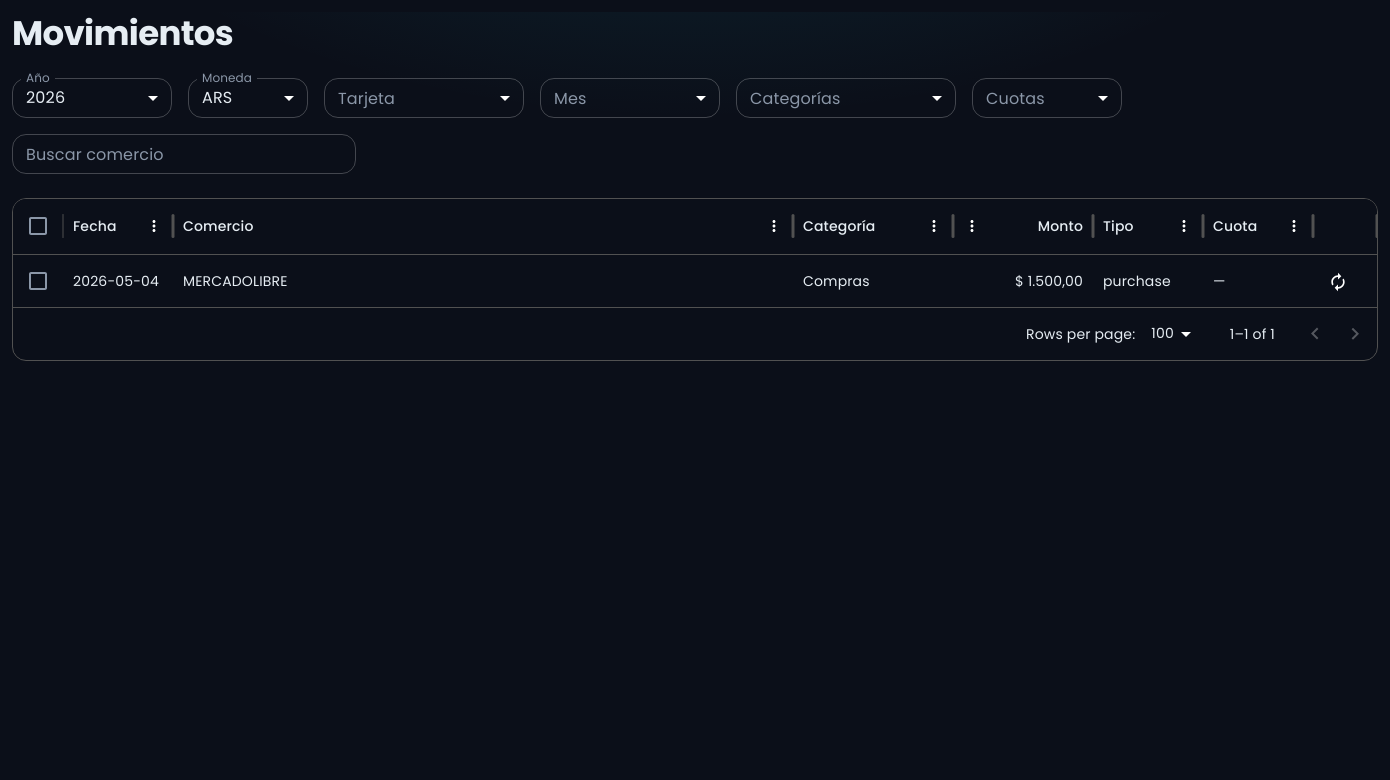
Test: TransactionsPage › si el server no lo acepta avisa que no pudo marcarlo
The width and height of the screenshot is (1390, 780).
Click the button named "Marcar MERCADOLIBRE como suscripción" at (1338, 282), box [1323,267,1353,297]
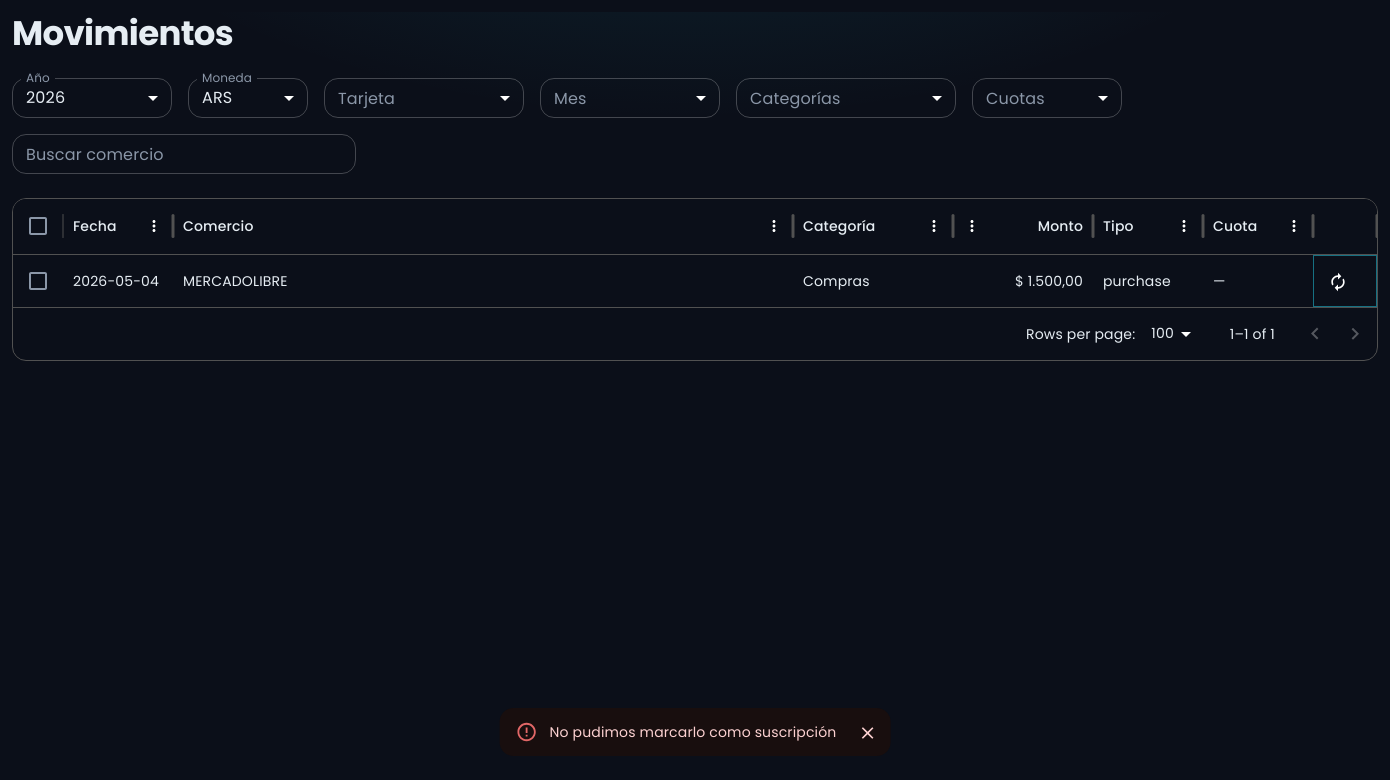
Expected: the text "No pudimos marcarlo como suscripción" is shown, [550,722,836,742]
